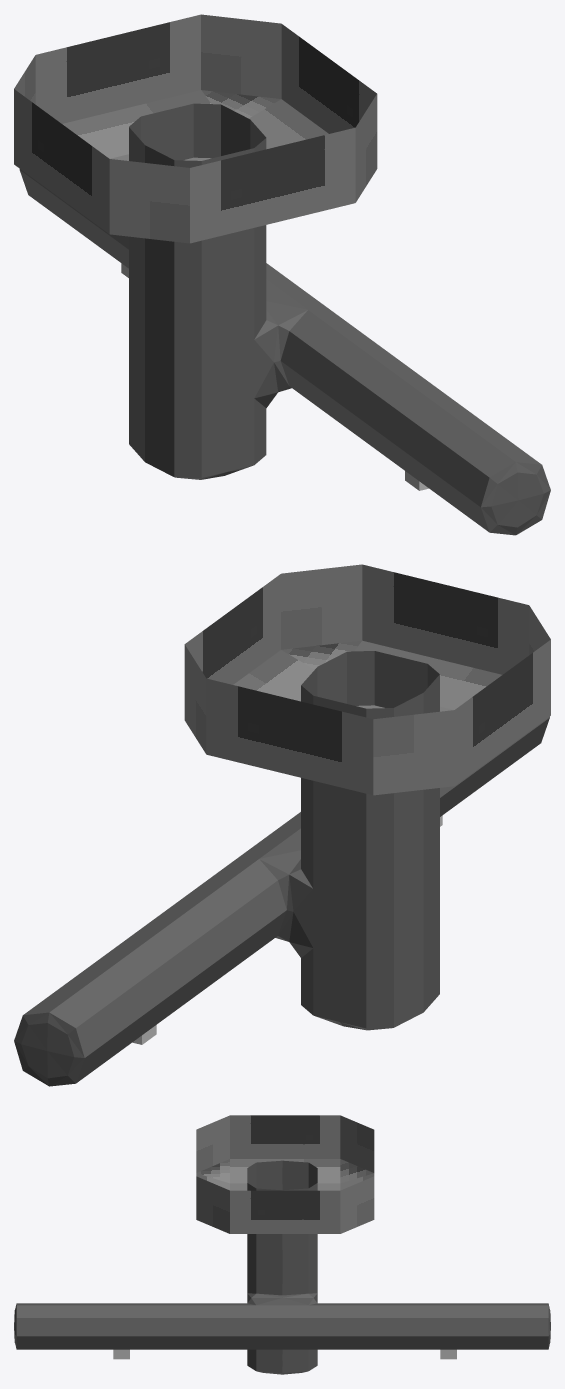
Rendered from UtilityPoleCeiling.obj.
3 views of the same model, one above another, from view 1: azimuth 30°, elevation 25°; view 2: azimuth 150°, elevation 25°; view 3: azimuth 270°, elevation 25° (orthographic). The views are drawn at different scales.
Visible parts, largest first — view 1: main, foot; view 2: main, foot; view 3: main, foot.
Part boxes in pixels (x1=…): main: x1=19, y1=103, x2=550, y2=535; foot: x1=14, y1=14, x2=377, y2=243; main: x1=14, y1=651, x2=549, y2=1086; foot: x1=184, y1=564, x2=550, y2=795; main: x1=14, y1=1160, x2=550, y2=1374; foot: x1=196, y1=1115, x2=374, y2=1233.
Size of the model in its own units: 0.7629 by 1 by 2.3.
Materials: 3 (2 with a texture image).
